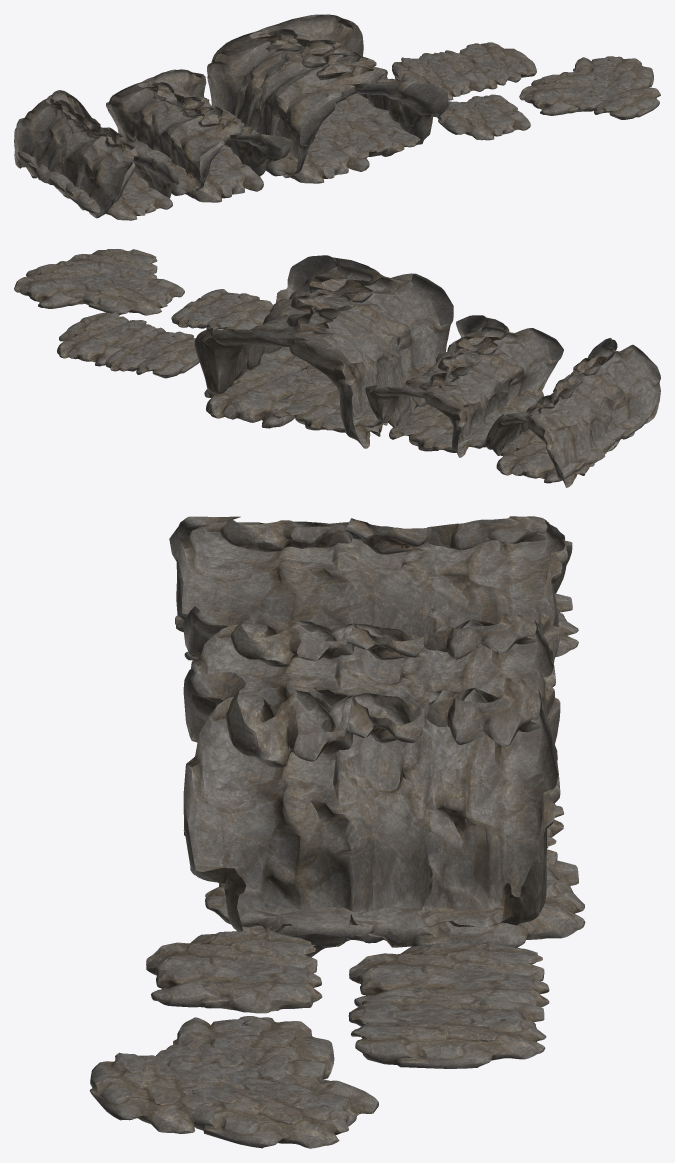
The model's file is Cave_Corridors_A1.fbx.
The picture shows the model from 3 angles, top to bottom: view 1: azimuth 30°, elevation 25°; view 2: azimuth 150°, elevation 25°; view 3: azimuth 270°, elevation 25°; orthographic projection. The views are drawn at different scales.
Parts seen in each view (by area): view 1: Cave_Corridor_A3, Cave_Corridor_A3.001, Cave_Corridor_A1, Cave_Corridor_A2, Cave_Corridor_A1.001, Cave_Corridor_A2.001, Cave_Floor_Piece_A2, Cave_Floor_Piece_A2.001, Cave_Floor_Piece_A3, Cave_Floor_Piece_A3.001, Cave_Floor_Piece_A1, Cave_Floor_Piece_A1.001; view 2: Cave_Corridor_A3, Cave_Corridor_A3.001, Cave_Corridor_A1, Cave_Corridor_A2, Cave_Corridor_A1.001, Cave_Corridor_A2.001, Cave_Floor_Piece_A2, Cave_Floor_Piece_A3, Cave_Floor_Piece_A2.001, Cave_Floor_Piece_A3.001, Cave_Floor_Piece_A1, Cave_Floor_Piece_A1.001; view 3: Cave_Corridor_A3, Cave_Corridor_A3.001, Cave_Corridor_A2, Cave_Corridor_A2.001, Cave_Floor_Piece_A2, Cave_Corridor_A1, Cave_Floor_Piece_A3, Cave_Corridor_A1.001, Cave_Floor_Piece_A2.001, Cave_Floor_Piece_A3.001, Cave_Floor_Piece_A1, Cave_Floor_Piece_A1.001.
Boxes of the visible parts, left/top/right/bottom form: Cave_Corridor_A3: left=207, top=14, right=448, bottom=183; Cave_Corridor_A3.001: left=207, top=14, right=448, bottom=183; Cave_Corridor_A1: left=106, top=69, right=292, bottom=202; Cave_Corridor_A2: left=14, top=90, right=179, bottom=220; Cave_Corridor_A1.001: left=106, top=69, right=292, bottom=202; Cave_Corridor_A2.001: left=14, top=90, right=179, bottom=220; Cave_Floor_Piece_A2: left=519, top=56, right=660, bottom=119; Cave_Floor_Piece_A2.001: left=519, top=56, right=660, bottom=119; Cave_Floor_Piece_A3: left=392, top=42, right=536, bottom=100; Cave_Floor_Piece_A3.001: left=392, top=42, right=536, bottom=100; Cave_Floor_Piece_A1: left=437, top=94, right=530, bottom=140; Cave_Floor_Piece_A1.001: left=437, top=94, right=530, bottom=140; Cave_Corridor_A3: left=195, top=255, right=453, bottom=448; Cave_Corridor_A3.001: left=194, top=255, right=453, bottom=448; Cave_Corridor_A1: left=365, top=315, right=563, bottom=457; Cave_Corridor_A2: left=485, top=338, right=660, bottom=487; Cave_Corridor_A1.001: left=365, top=315, right=563, bottom=457; Cave_Corridor_A2.001: left=485, top=338, right=660, bottom=487; Cave_Floor_Piece_A2: left=14, top=249, right=184, bottom=315; Cave_Floor_Piece_A3: left=57, top=312, right=199, bottom=378; Cave_Floor_Piece_A2.001: left=14, top=249, right=184, bottom=315; Cave_Floor_Piece_A3.001: left=57, top=312, right=199, bottom=377; Cave_Floor_Piece_A1: left=171, top=289, right=273, bottom=329; Cave_Floor_Piece_A1.001: left=171, top=289, right=272, bottom=329; Cave_Corridor_A3: left=183, top=669, right=585, bottom=957; Cave_Corridor_A3.001: left=183, top=668, right=584, bottom=948; Cave_Corridor_A2: left=171, top=516, right=578, bottom=660; Cave_Corridor_A2.001: left=169, top=516, right=578, bottom=660; Cave_Floor_Piece_A2: left=90, top=1016, right=378, bottom=1148; Cave_Corridor_A1: left=183, top=607, right=560, bottom=710; Cave_Floor_Piece_A3: left=348, top=942, right=549, bottom=1068; Cave_Corridor_A1.001: left=183, top=605, right=559, bottom=710; Cave_Floor_Piece_A2.001: left=90, top=1016, right=378, bottom=1148; Cave_Floor_Piece_A3.001: left=349, top=942, right=549, bottom=1068; Cave_Floor_Piece_A1: left=146, top=931, right=322, bottom=1013; Cave_Floor_Piece_A1.001: left=146, top=930, right=322, bottom=1013.
Bounding box in the file's own units: 11617 × 1823 × 4375.
